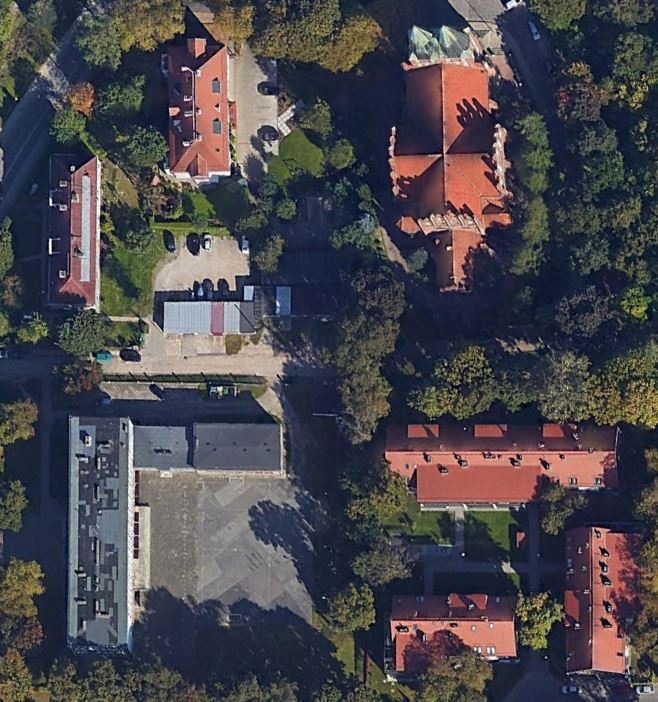block of flats: (61, 409, 301, 669), (379, 414, 627, 515), (558, 525, 653, 683), (379, 589, 526, 685), (156, 30, 233, 184), (40, 149, 104, 316)
church: (374, 15, 517, 304)
garage: (241, 282, 347, 325), (161, 298, 267, 338)
